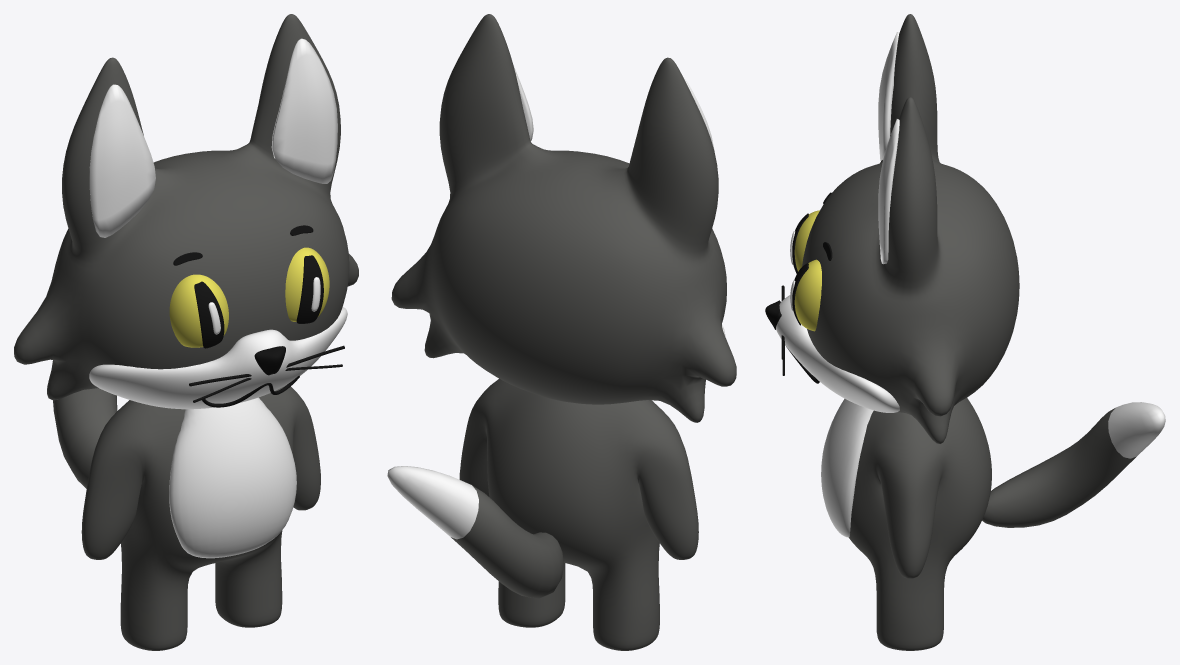
File: cartoon_cat.glb
3 views of the same model, side by side, from view 1: azimuth 30°, elevation 25°; view 2: azimuth 150°, elevation 25°; view 3: azimuth 270°, elevation 25° (orthographic). The views are drawn at different scales.
Visible parts, largest first — view 1: Cube, Cube.001, Cube.004, Cube.003, Cube.002, Cube.005, Sphere.001, Sphere.003, Sphere.002, Sphere.004, Plane.001; view 2: Cube, Cube.001, Cube.005, Cube.003; view 3: Cube, Cube.001, Cube.005, Cube.004, Cube.002, Cube.003, Sphere.003, Sphere.001.
Boxes of the visible parts, x1,y1,x2,y2 form: Cube: [14, 14, 358, 400]; Cube.001: [81, 385, 320, 650]; Cube.004: [169, 397, 296, 558]; Cube.003: [89, 38, 337, 237]; Cube.002: [89, 307, 347, 409]; Cube.005: [53, 388, 117, 488]; Sphere.001: [169, 274, 228, 347]; Sphere.003: [285, 247, 329, 321]; Sphere.002: [194, 281, 224, 348]; Sphere.004: [296, 255, 323, 323]; Plane.001: [254, 346, 285, 375]; Cube: [391, 14, 736, 422]; Cube.001: [459, 378, 698, 650]; Cube.005: [387, 466, 563, 598]; Cube.003: [513, 65, 714, 149]; Cube: [802, 14, 1019, 443]; Cube.001: [848, 398, 991, 650]; Cube.005: [982, 402, 1165, 527]; Cube.004: [821, 398, 873, 537]; Cube.002: [776, 295, 899, 412]; Cube.003: [878, 32, 899, 264]; Sphere.003: [794, 259, 821, 331]; Sphere.001: [794, 210, 819, 271].
Size of the model in its own units: 3.02 by 5 by 3.23.
